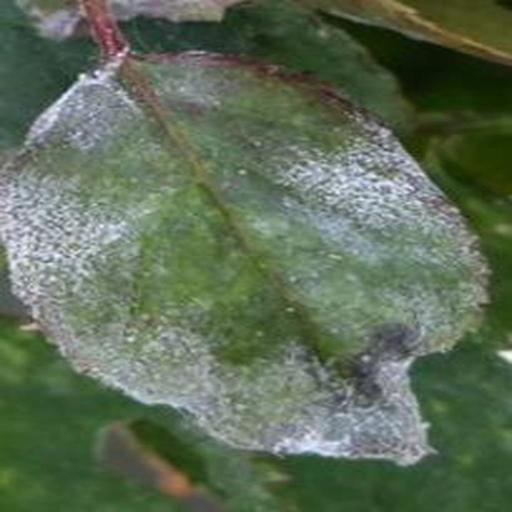powdery_mildew: (0, 53, 486, 464)
